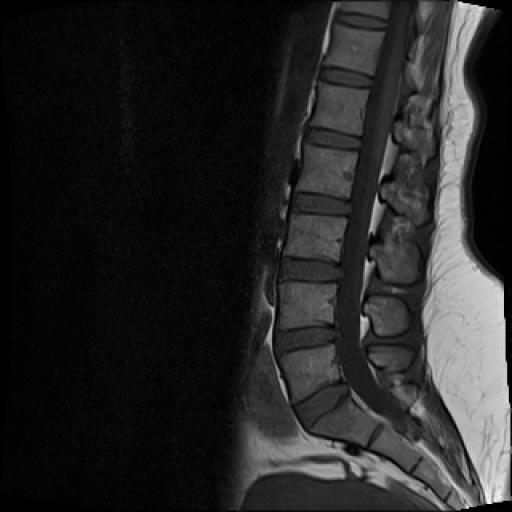L1: (312, 82, 369, 134)
L2: (295, 143, 357, 198)
L3: (286, 216, 346, 262)
L4: (277, 283, 337, 330)
L5: (280, 344, 341, 402)
S1: (310, 396, 379, 448)
